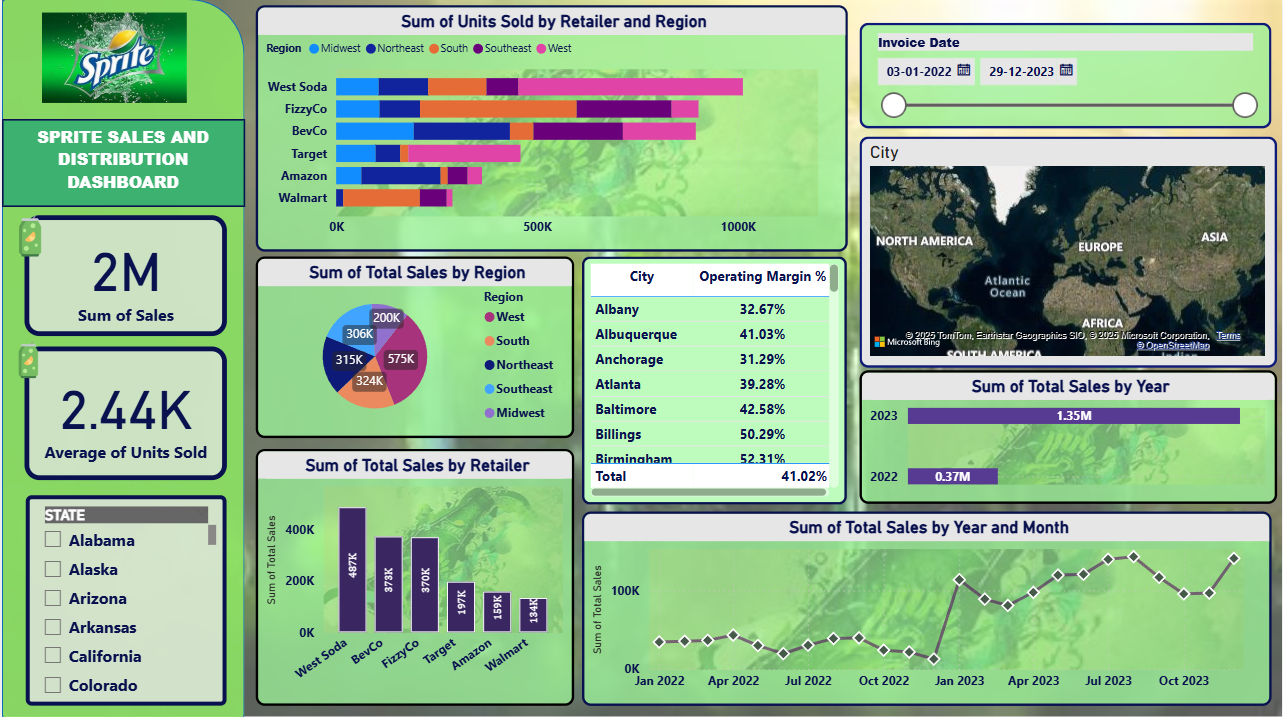

This screenshot's page, from the dashboard's own definition file:
{"tool":"powerbi","page":{"name":"Page 1","canvas":[1280,720],"ordinal":0},"visuals":[{"type":"shape","box":[0,0,242.5,720],"z":0},{"type":"image","box":[0,8.8,225,100],"z":1000},{"type":"textbox","box":[0,119.8,243,88.4],"z":2000},{"type":"card","fields":{"Values":["Data.SUM OF SALES"]},"box":[22.1,216.3,202.3,120.9],"z":3000},{"type":"columnChart","fields":{"Y":["Sum(Data.Total Sales)"],"Category":["Data.Retailer"]},"box":[253.5,450,318.6,257],"z":4000},{"type":"filledMap","fields":{"Category":["Data.City"]},"box":[857,137.2,417.4,231.4],"z":5000},{"type":"lineChart","fields":{"Y":["Sum(Data.Total Sales)"],"Category":["Data.Invoice Date.Variation.Date Hierarchy.Year","Data.Invoice Date.Variation.Date Hierarchy.Month","Data.Invoice Date.Variation.Date Hierarchy.Day"]},"box":[580.2,512.8,689.5,194.2],"z":6000},{"type":"slicer","fields":{"Values":["Data.State"]},"box":[23.3,496.5,201.2,210.5],"z":7000},{"type":"barChart","fields":{"Category":["Data.Retailer"],"Y":["Sum(Data.Units Sold)"],"Series":["Data.Region"]},"box":[253.5,5.8,591.9,246.5],"z":8000},{"type":"card","fields":{"Values":["Avg(Data.Units Sold)"]},"box":[22.1,347.7,202.3,133.7],"z":9000},{"type":"pieChart","fields":{"Category":["Data.Region"],"Y":["Sum(Data.Total Sales)"]},"box":[253.5,257,318.6,181.4],"z":10000},{"type":"slicer","fields":{"Values":["Data.Invoice Date"]},"box":[857,23.3,411.6,105.8],"z":11000},{"type":"barChart","fields":{"Y":["Sum(Data.Total Sales)"],"Category":["Data.Invoice Date.Variation.Date Hierarchy.Year"]},"box":[857,370.9,417.4,133.7],"z":12000},{"type":"image","box":[2.3,208.1,51.2,55.8],"z":13000},{"type":"image","box":[0,337.2,53.5,46.5],"z":14000},{"type":"tableEx","fields":{"Values":["Data.City","Avg(Data.Operating Margin)"]},"box":[580.2,257,265.1,247.7],"z":14001}]}

Visuals, with their boxes in screenshot pixels (x1, y1, x2, y2), scaled from the page's 1280x720 canvas onto the 1283x717 screenshot:
shape: [0, 0, 243, 716]
image: [0, 9, 226, 108]
textbox: [0, 119, 244, 207]
card - Data.SUM OF SALES: [22, 215, 225, 336]
columnChart - Sum(Data.Total Sales) x Data.Retailer: [254, 448, 573, 704]
filledMap - Data.City: [859, 137, 1277, 367]
lineChart - Sum(Data.Total Sales) x Data.Invoice Date.Variation.Date Hierarchy.Year: [582, 511, 1273, 704]
slicer - Data.State: [23, 494, 225, 704]
barChart - Data.Retailer x Sum(Data.Units Sold): [254, 6, 847, 251]
card - Avg(Data.Units Sold): [22, 346, 225, 479]
pieChart - Data.Region x Sum(Data.Total Sales): [254, 256, 573, 437]
slicer - Data.Invoice Date: [859, 23, 1272, 129]
barChart - Sum(Data.Total Sales) x Data.Invoice Date.Variation.Date Hierarchy.Year: [859, 369, 1277, 502]
image: [2, 207, 54, 263]
image: [0, 336, 54, 382]
tableEx - Data.City x Avg(Data.Operating Margin): [582, 256, 847, 503]
